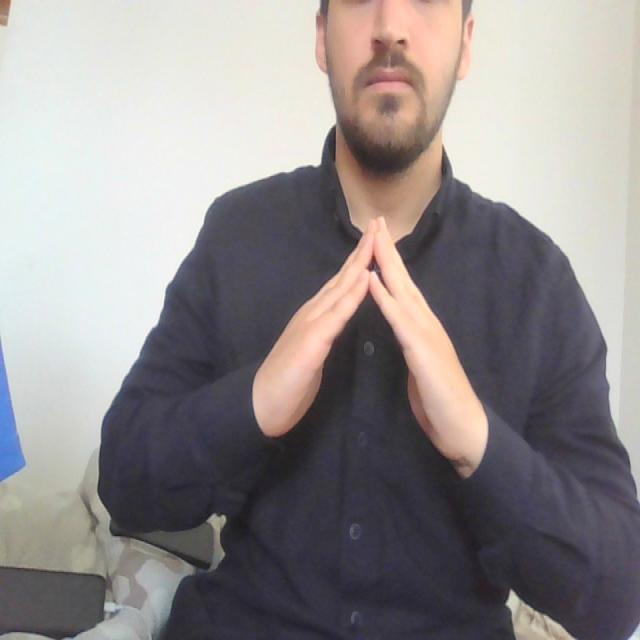Ev: (252, 213, 490, 468)
